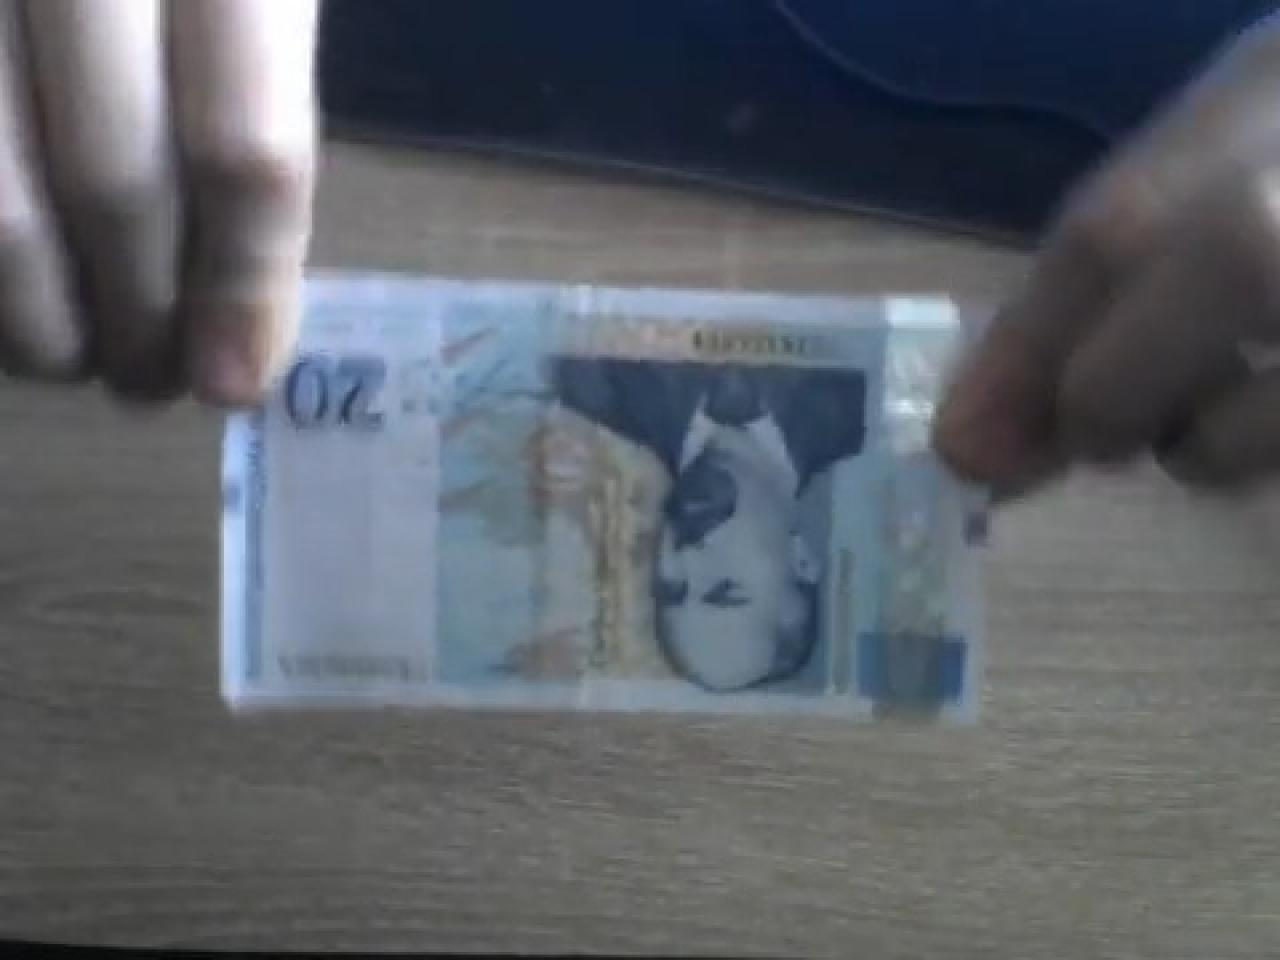20leva: (216, 269, 990, 731)
